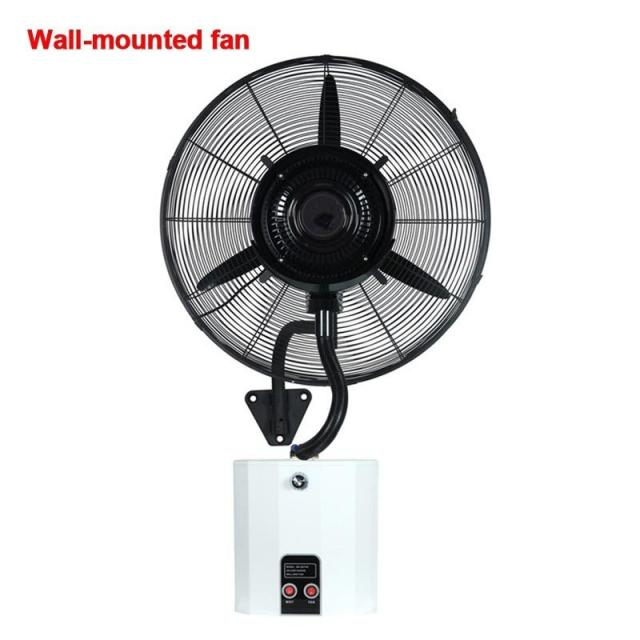fan: (138, 43, 520, 640)
